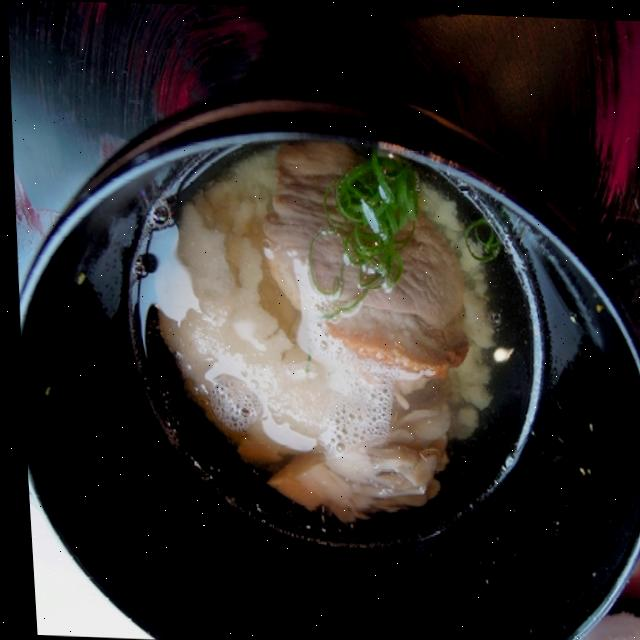汤锅炖物: (5, 100, 640, 640)
